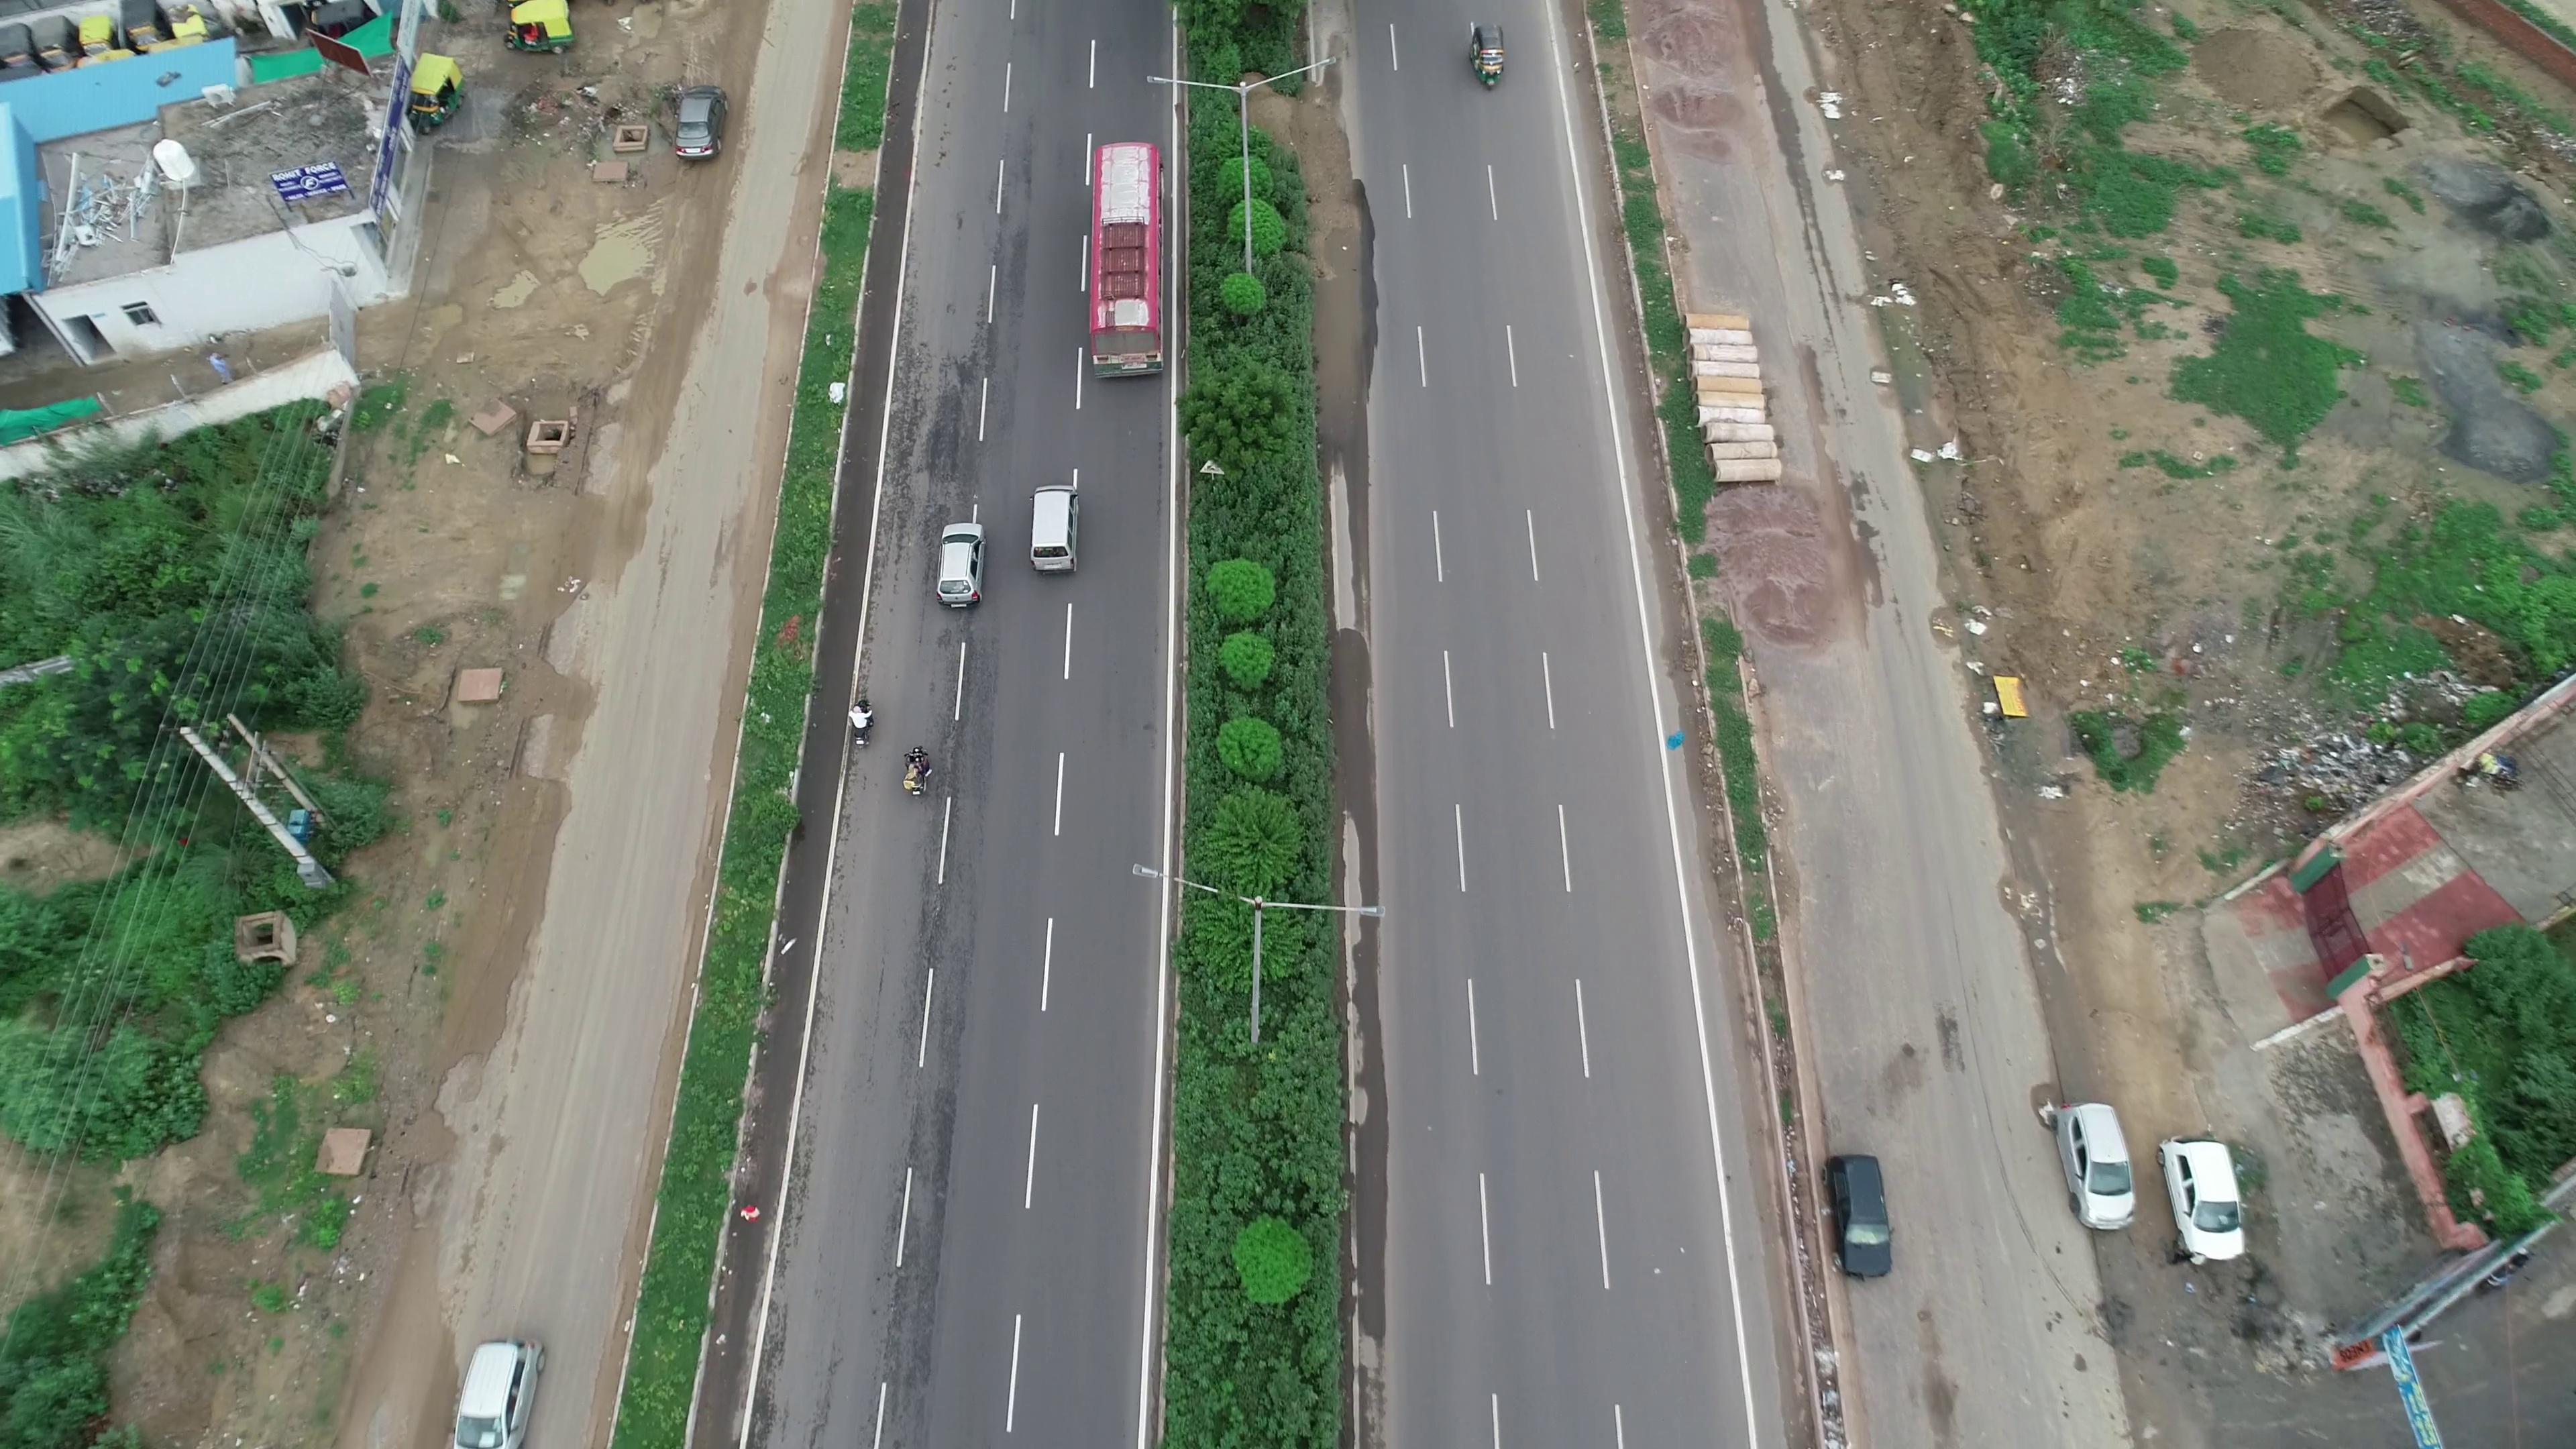Muddy_road: (1313, 69, 1394, 464)
